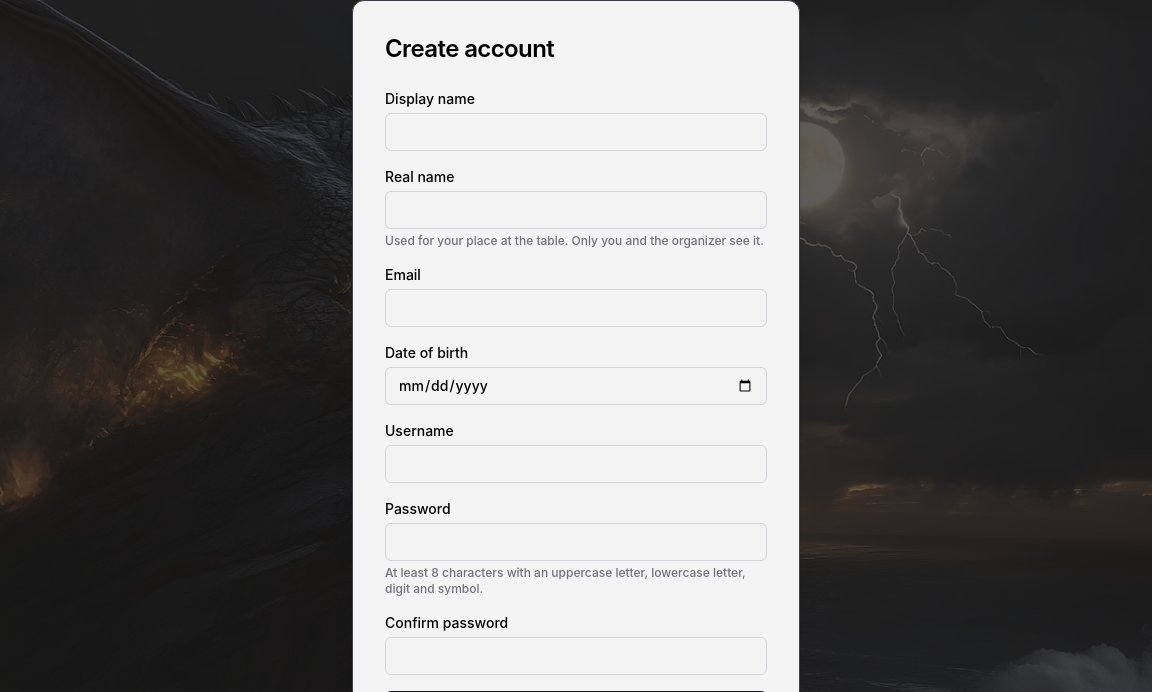
RegisterPage › registers a valid profile and shows the welcome prompt
Type "Aria" into the field labelled "Display name" at {"x": 576, "y": 132}, box x1=385 y1=113 x2=767 y2=151
Type "Aria Ashton" into the field labelled "Real name" at {"x": 576, "y": 210}, box x1=385 y1=191 x2=767 y2=229
Type "aria@example.com" into the field labelled "Email" at {"x": 576, "y": 308}, box x1=385 y1=289 x2=767 y2=327
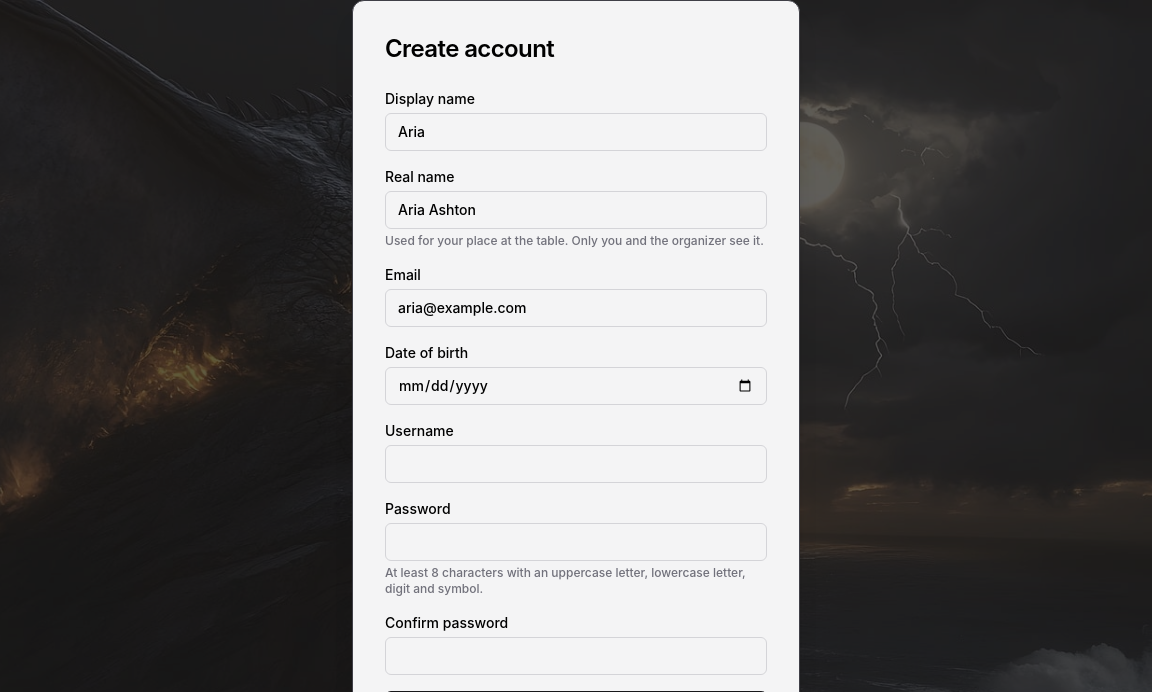
Type "1990-01-15" into the date field labelled "Date of birth" at {"x": 576, "y": 386}, box x1=385 y1=367 x2=767 y2=405
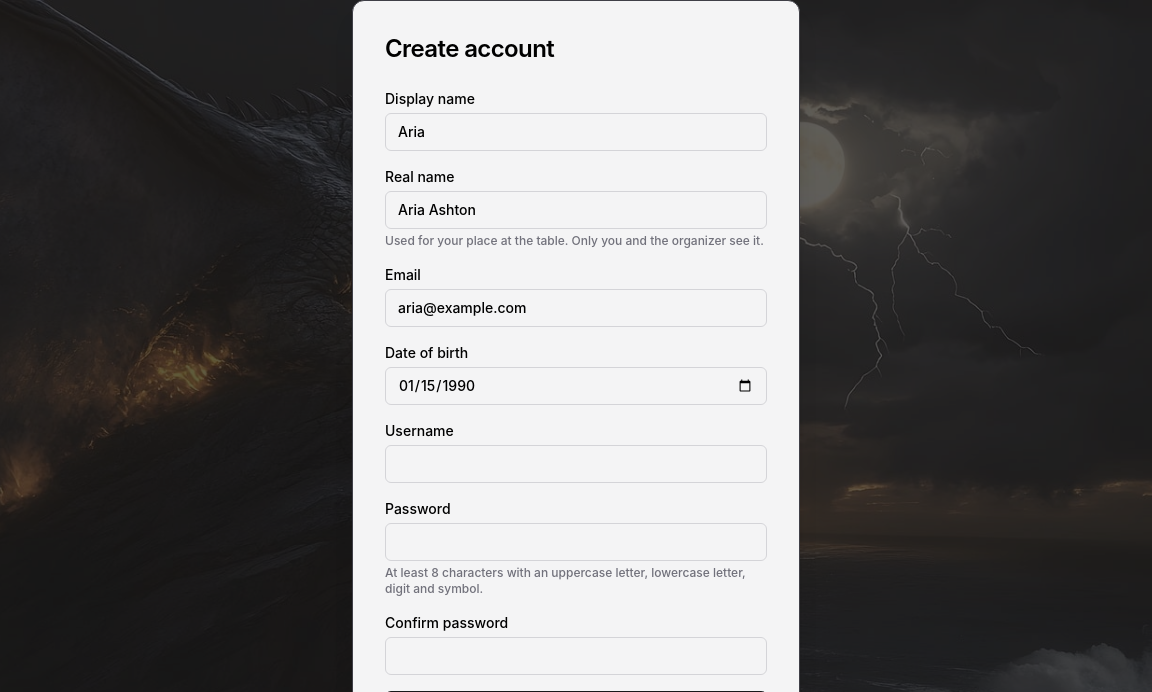
Type "aria" into the field labelled "Username" at {"x": 576, "y": 464}, box x1=385 y1=445 x2=767 y2=483
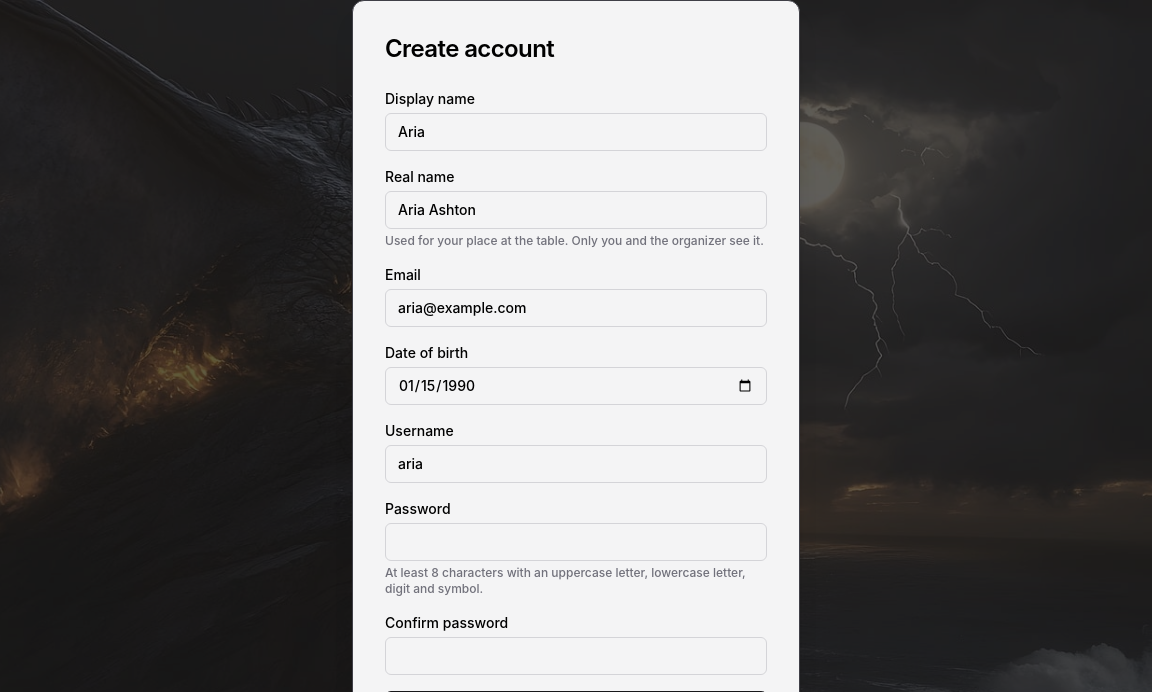
Type "Password1!" into the password field labelled "Password" at {"x": 576, "y": 542}, box x1=385 y1=523 x2=767 y2=561
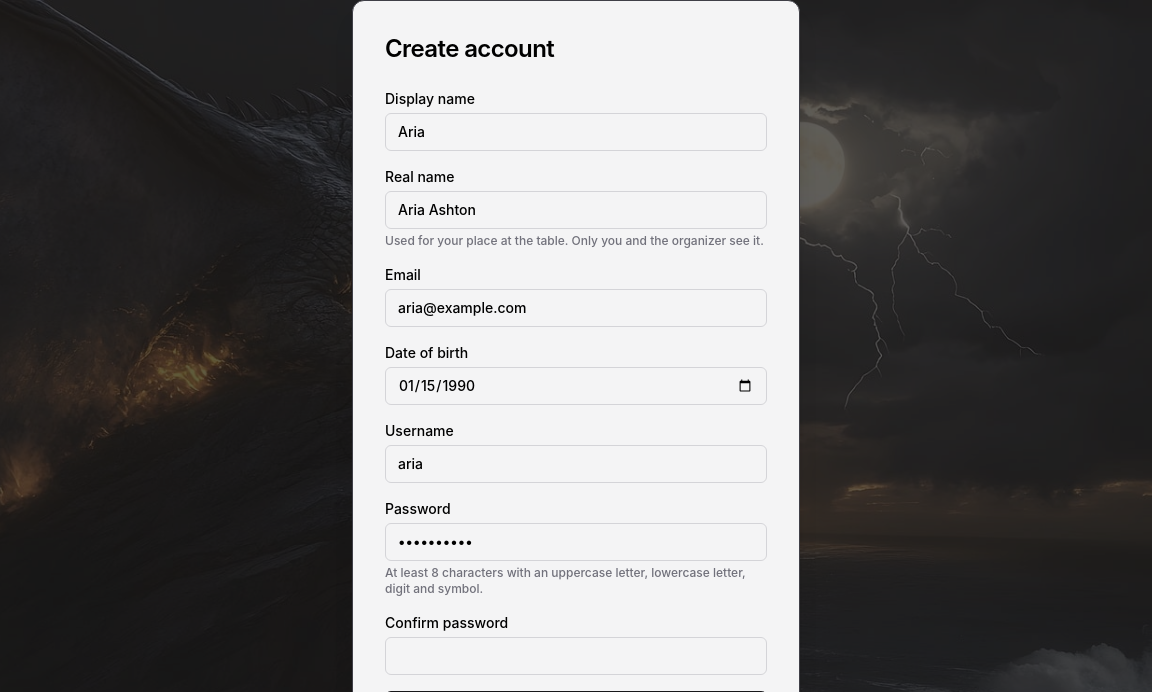
Type "Password1!" into the password field labelled "Confirm password" at {"x": 576, "y": 656}, box x1=385 y1=637 x2=767 y2=675
(page scrolled)
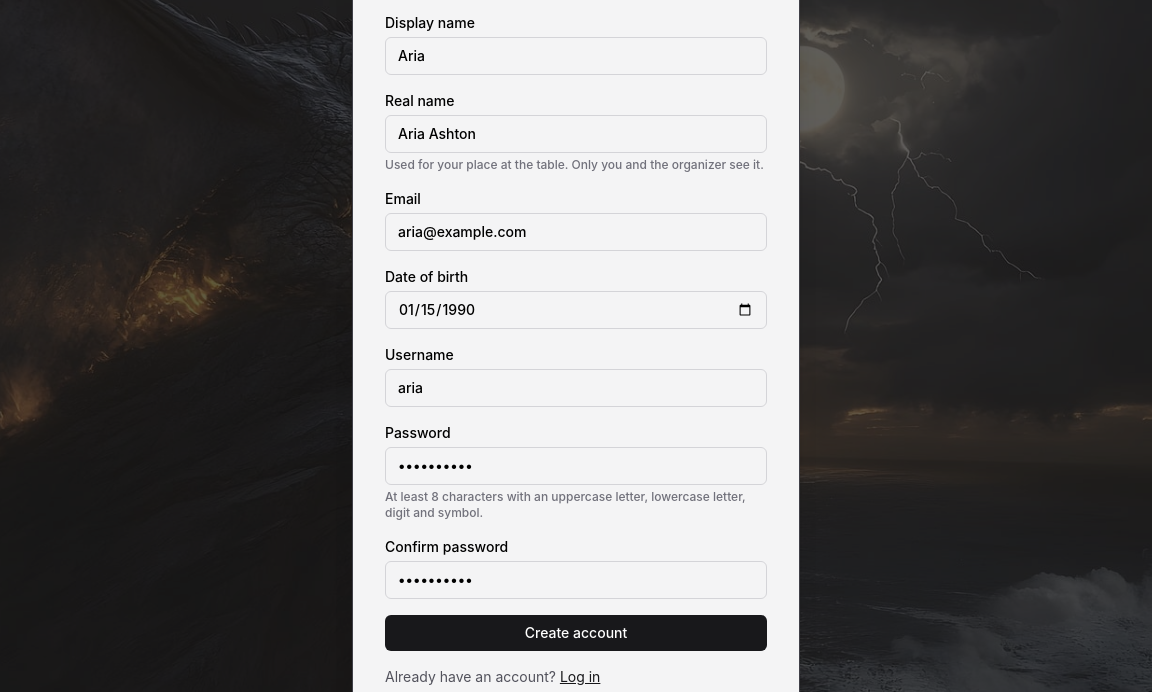
Click the button "Create account" at {"x": 576, "y": 633}, box x1=385 y1=615 x2=767 y2=651
(page scrolled)
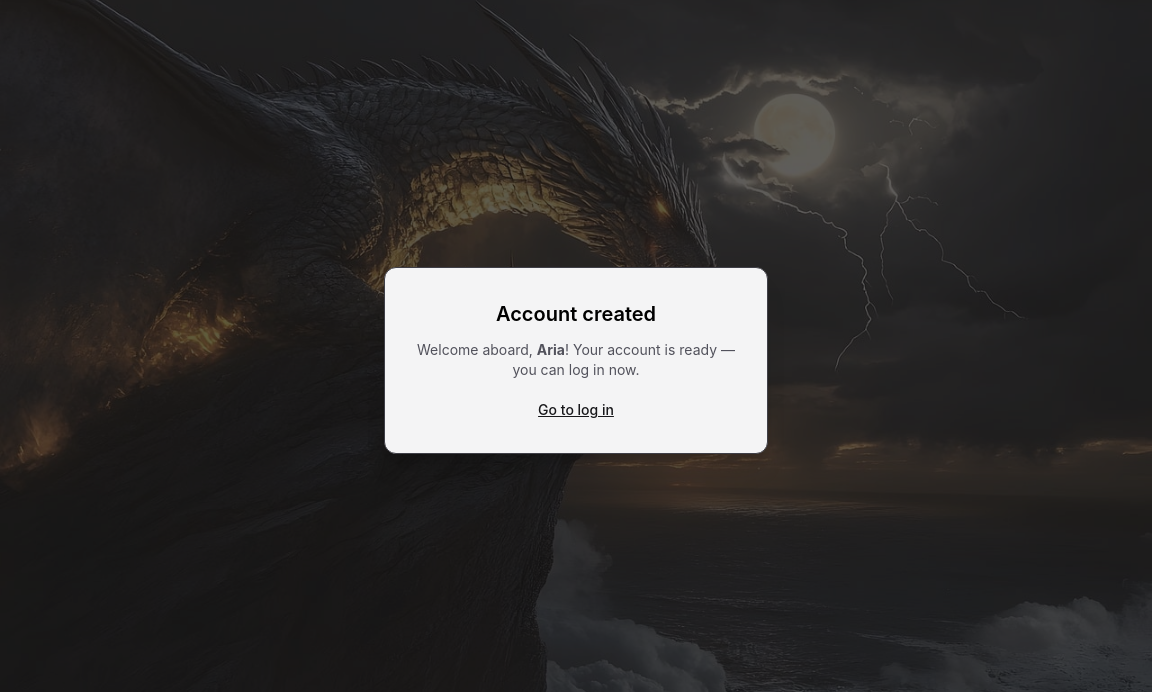
Result: the heading "Account created" is shown at x1=496 y1=302 x2=656 y2=326
